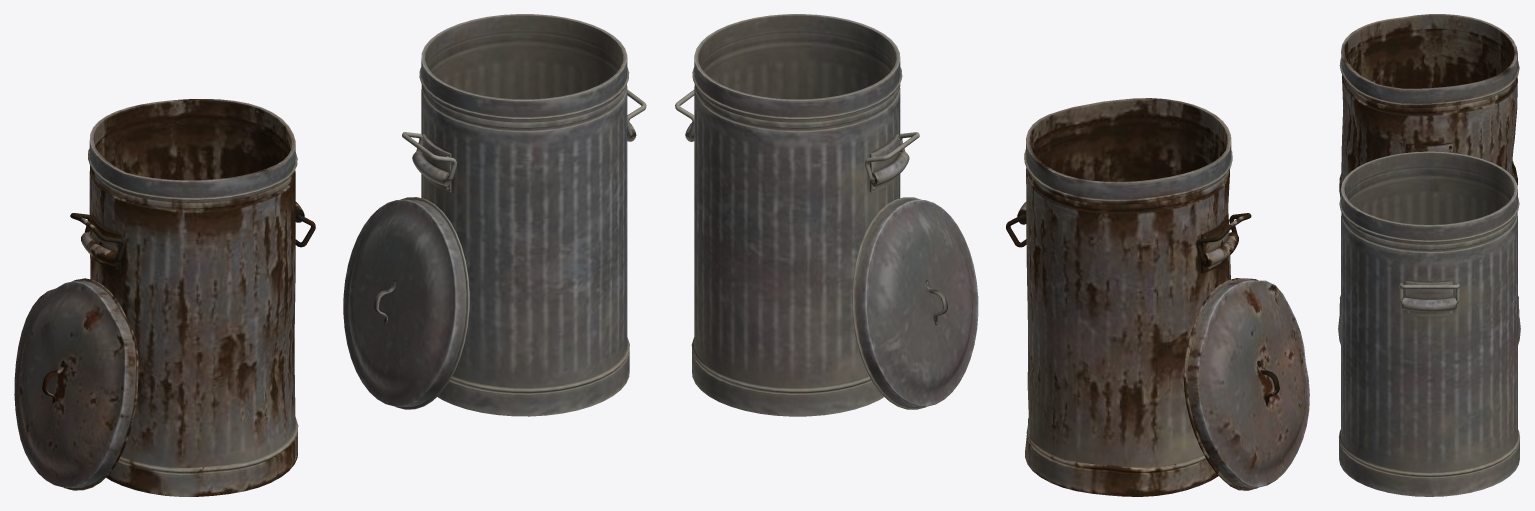
Rendered from metal_trash_can.glb.
3 renders of one model, left to right at view 1: azimuth 30°, elevation 25°; view 2: azimuth 150°, elevation 25°; view 3: azimuth 270°, elevation 25°, orthographic. The views are drawn at different scales.
Parts seen in each view (by area): view 1: metal_trash_can, metal_trash_can_rust, metal_trash_can_lid, metal_trash_can_rust_lid; view 2: metal_trash_can, metal_trash_can_rust, metal_trash_can_lid, metal_trash_can_rust_lid; view 3: metal_trash_can, metal_trash_can_rust, metal_trash_can_handle_right.
Boxes of the visible parts, x1,y1,x2,y2 form: metal_trash_can: (412,14,636,416); metal_trash_can_rust: (81,99,304,496); metal_trash_can_lid: (343,197,469,409); metal_trash_can_rust_lid: (14,278,138,490); metal_trash_can: (685,14,909,416); metal_trash_can_rust: (1017,98,1238,496); metal_trash_can_lid: (852,197,978,409); metal_trash_can_rust_lid: (1183,278,1309,490); metal_trash_can: (1338,151,1519,496); metal_trash_can_rust: (1339,14,1519,316); metal_trash_can_handle_right: (1399,283,1459,303).
Bounding box in the file's own units: 1.78 × 0.9062 × 0.5563.
Materials: 3 (3 with a texture image).
